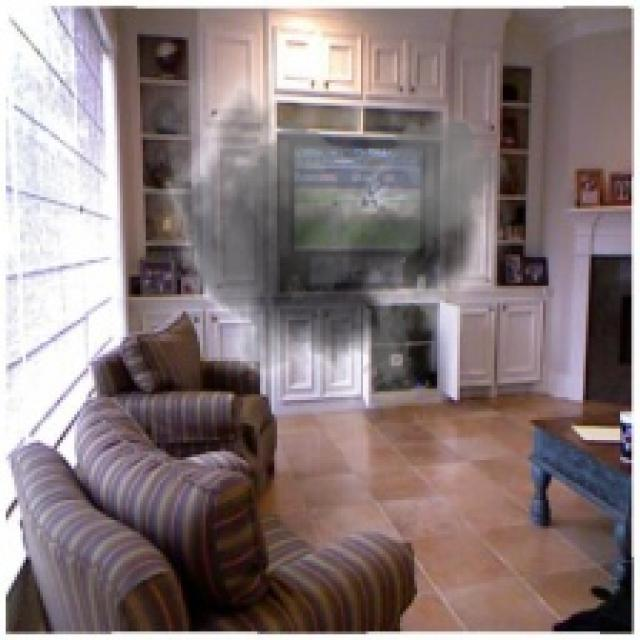smoke: (143, 8, 511, 426)
